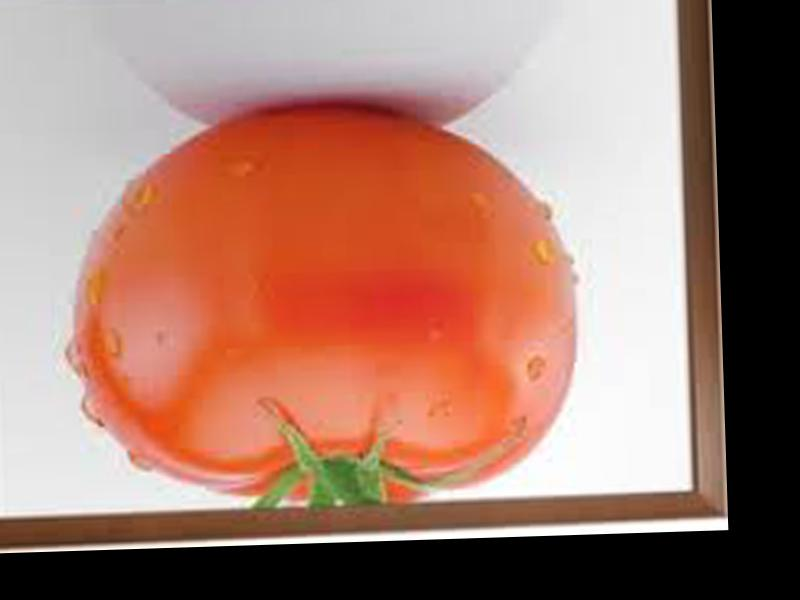Tomato: (66, 97, 581, 516)
